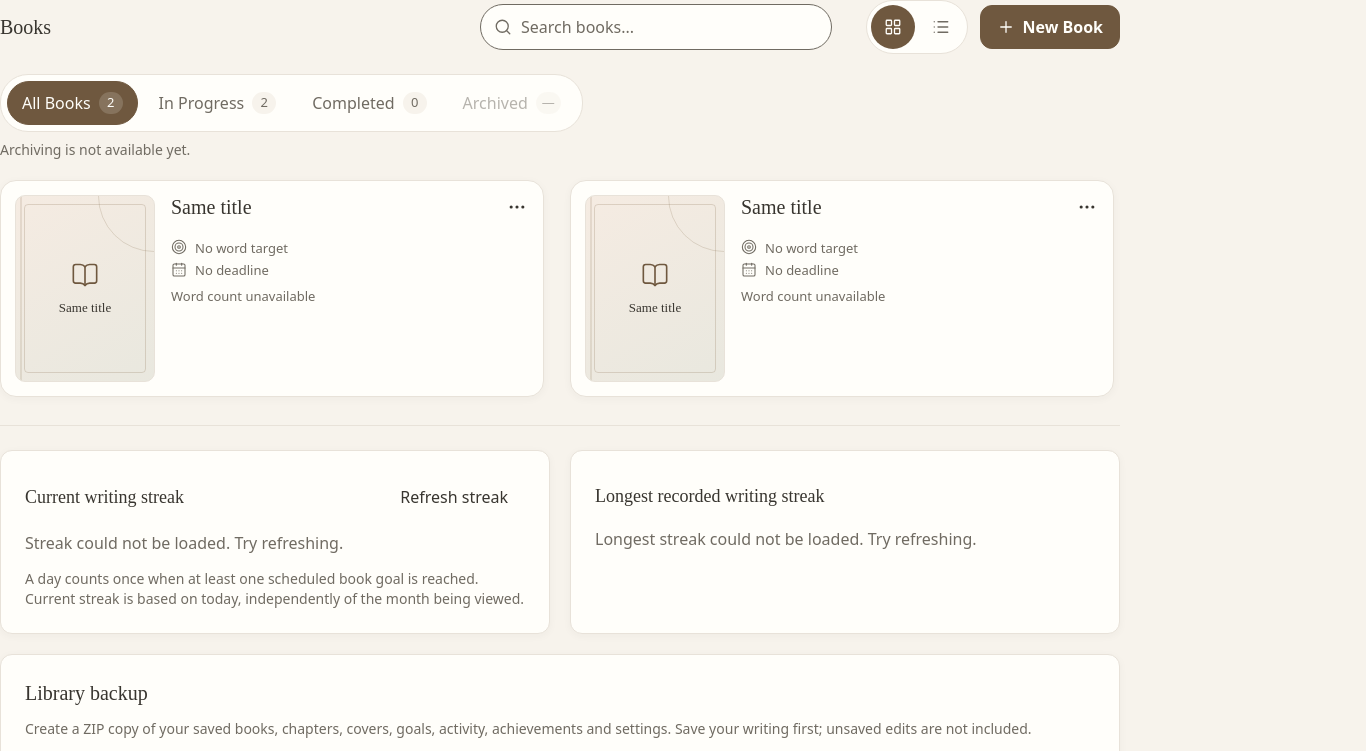
Scenario: loads existing books and edits the selected identity even with duplicate titles
The image size is (1366, 751).
Click the 2nd button named "Book actions" at (1087, 207), box [1065, 185, 1109, 229]
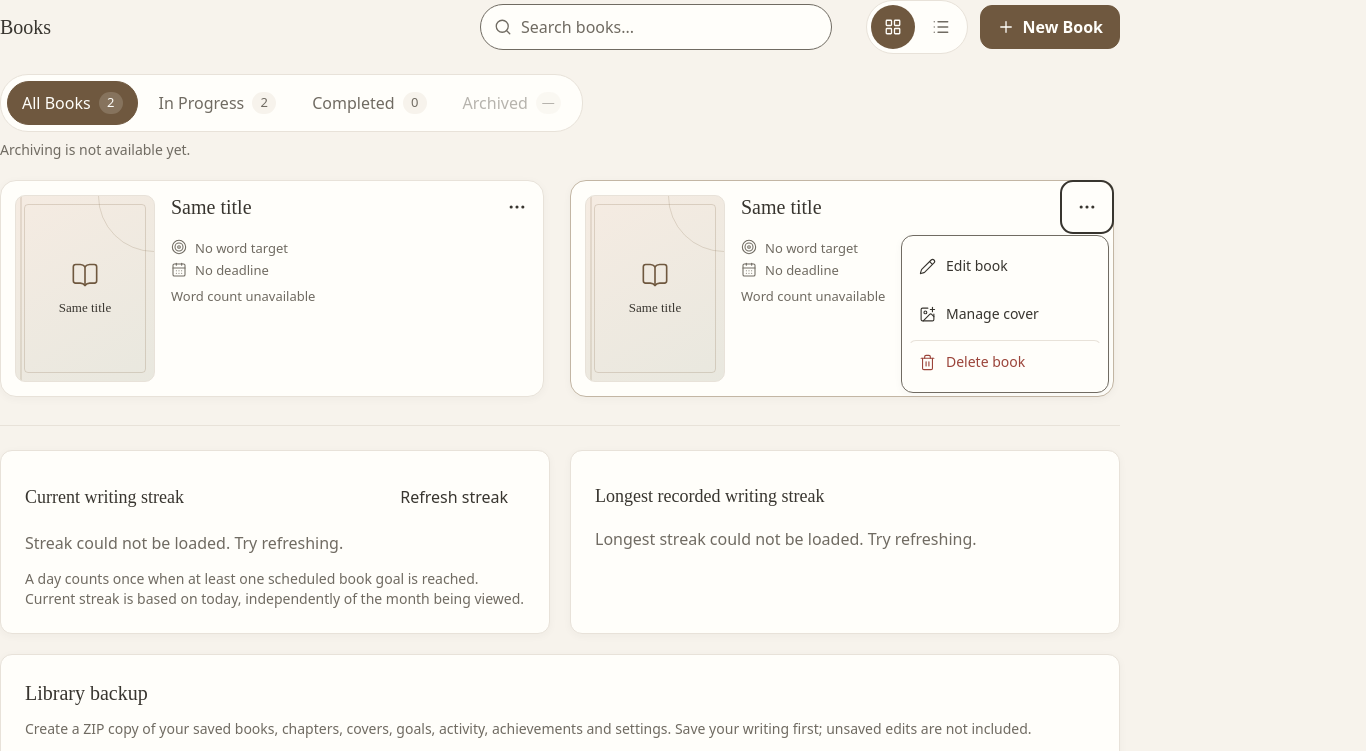
Click the button "Edit book" at (1005, 266), box [908, 244, 1102, 288]
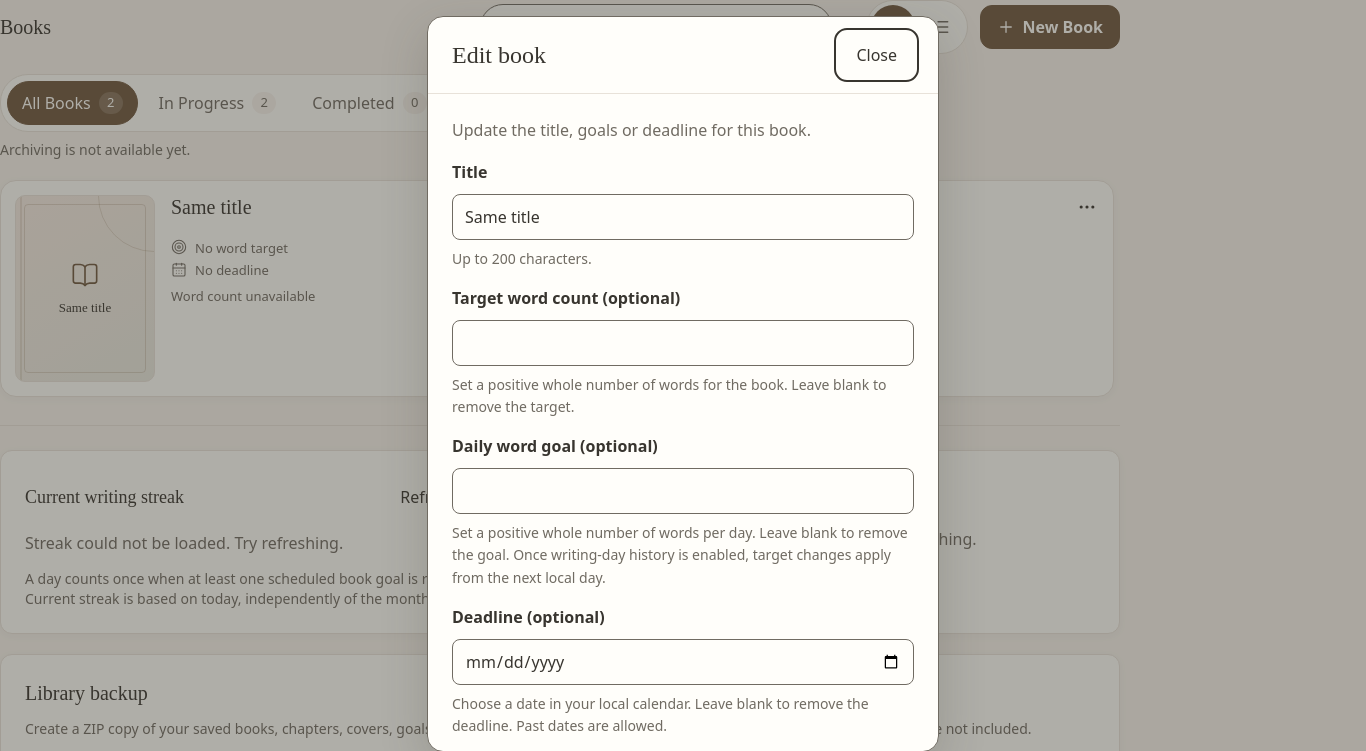
Replace the text in the field labelled "Title" with "Changed" at (683, 217), box [452, 194, 914, 240]
(page scrolled)
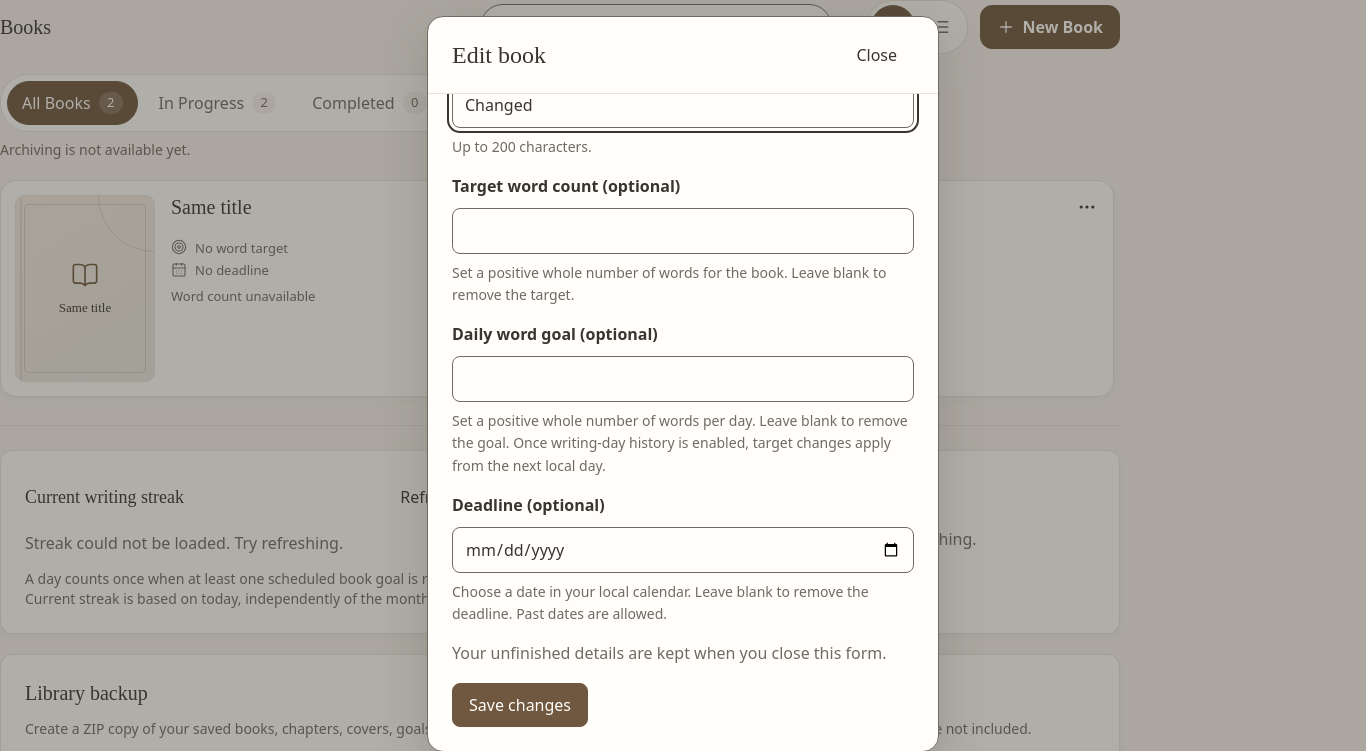
Click the button "Save changes" at (520, 705), box [452, 683, 588, 728]
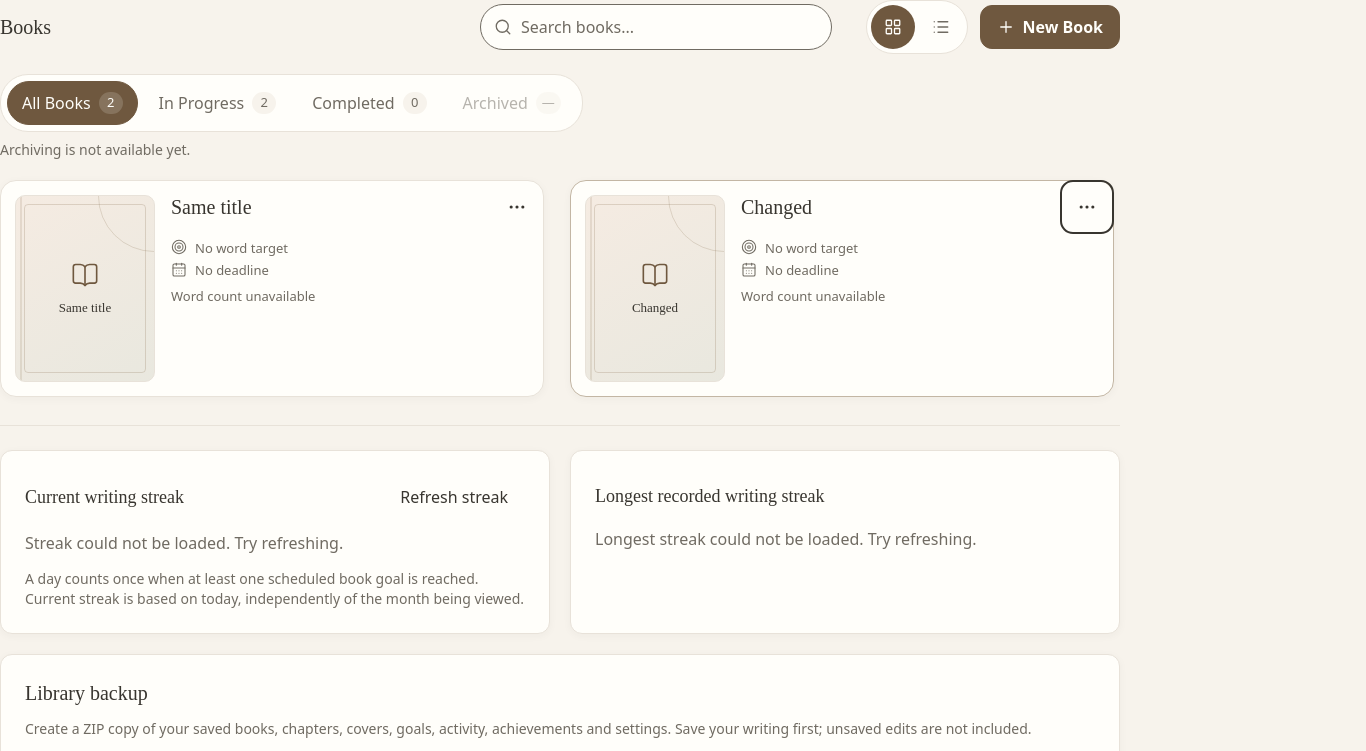
Expected: the heading "Same title" is shown, [171, 196, 252, 218]
Expected: the heading "Changed" is shown, [741, 196, 812, 218]
